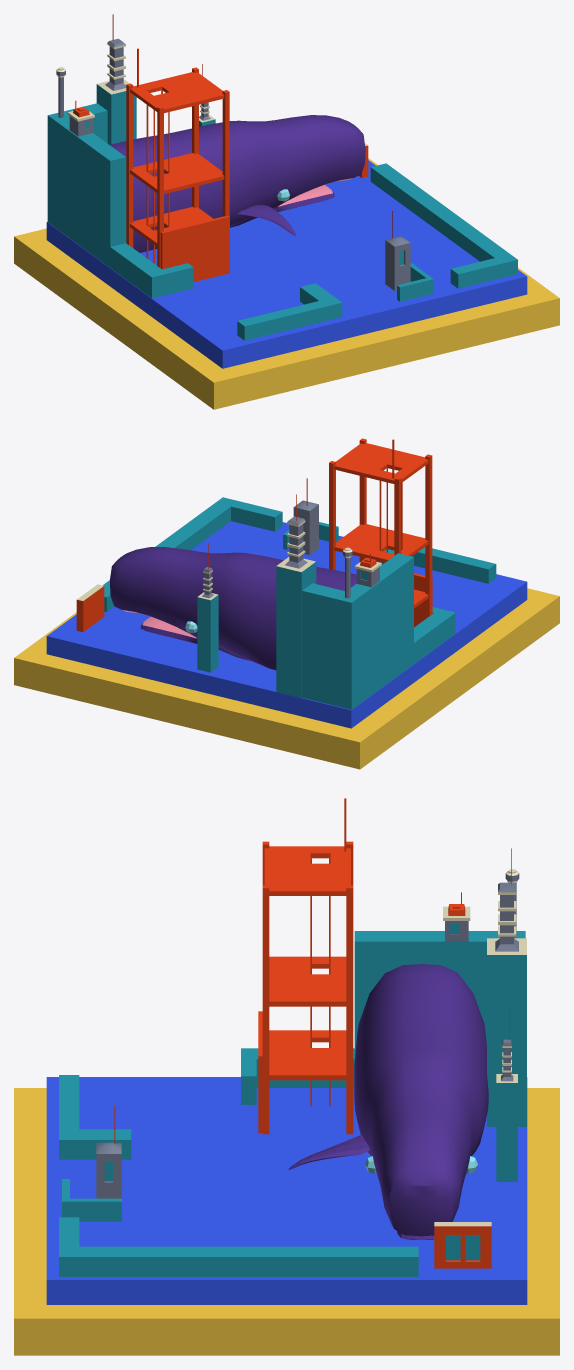
Rendered from station.fbx.
The picture shows the model from 3 angles, top to bottom: view 1: azimuth 30°, elevation 25°; view 2: azimuth 150°, elevation 25°; view 3: azimuth 270°, elevation 25°; orthographic projection. The views are drawn at different scales.
Visible parts, largest first — view 1: station; view 2: station; view 3: station.
Boxes of the visible parts, x1=… form: station: x1=14, y1=14, x2=559, y2=409; station: x1=14, y1=438, x2=559, y2=769; station: x1=14, y1=798, x2=559, y2=1355.
Size of the model in its own units: 670 by 483 by 670.
